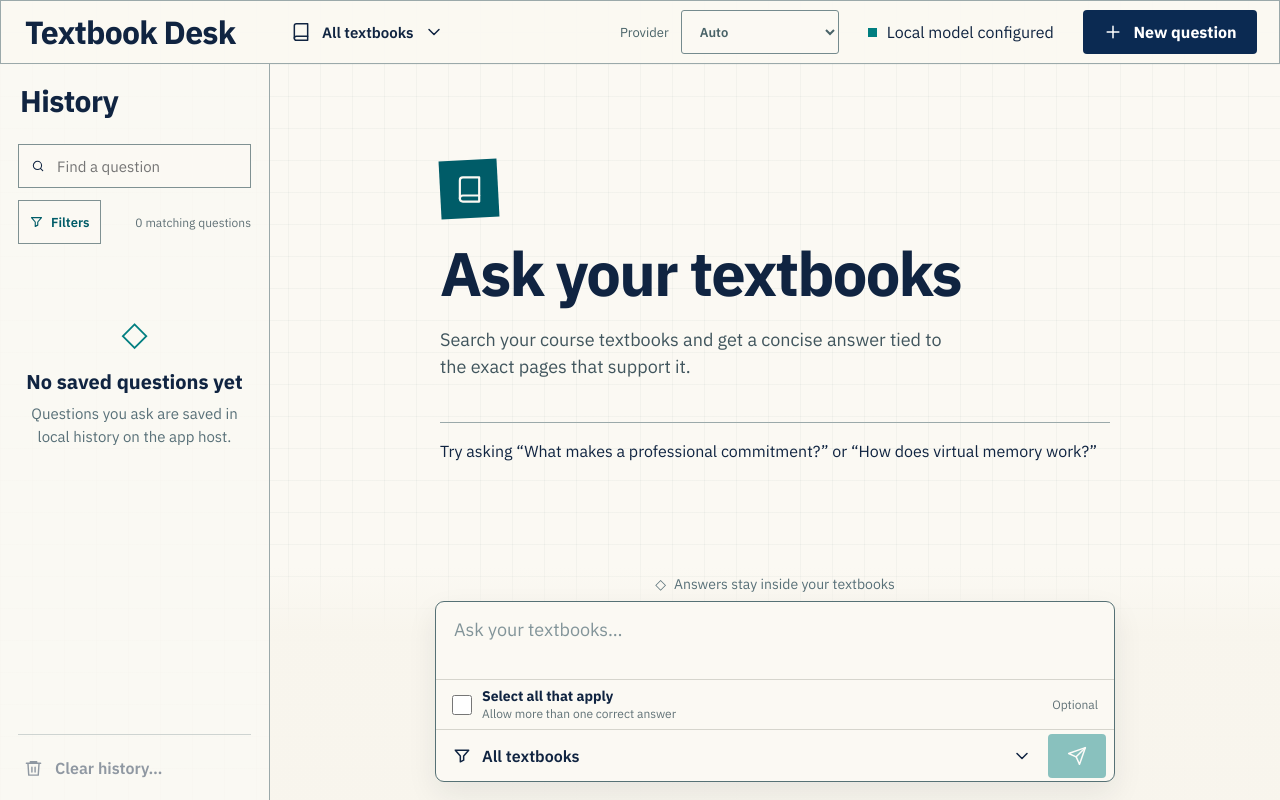
Test: Textbook Desk › keeps NVIDIA answers working with keyword retrieval when the local model is offline
In the text box with placeholder "Ask your textbooks…": (775, 638) [436,602,1114,675], type "How does virtual memory work?"
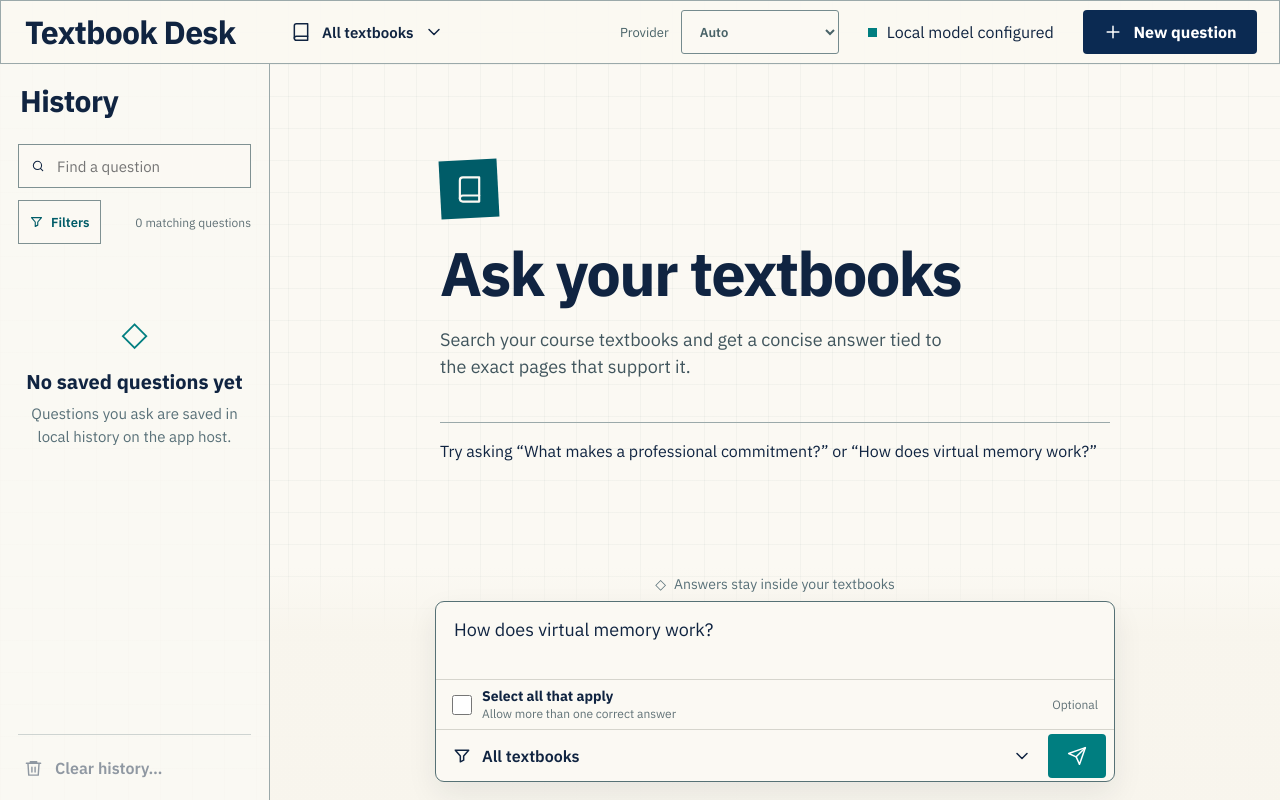
Click the button named "Ask question": (1077, 756) [1048,734,1106,778]
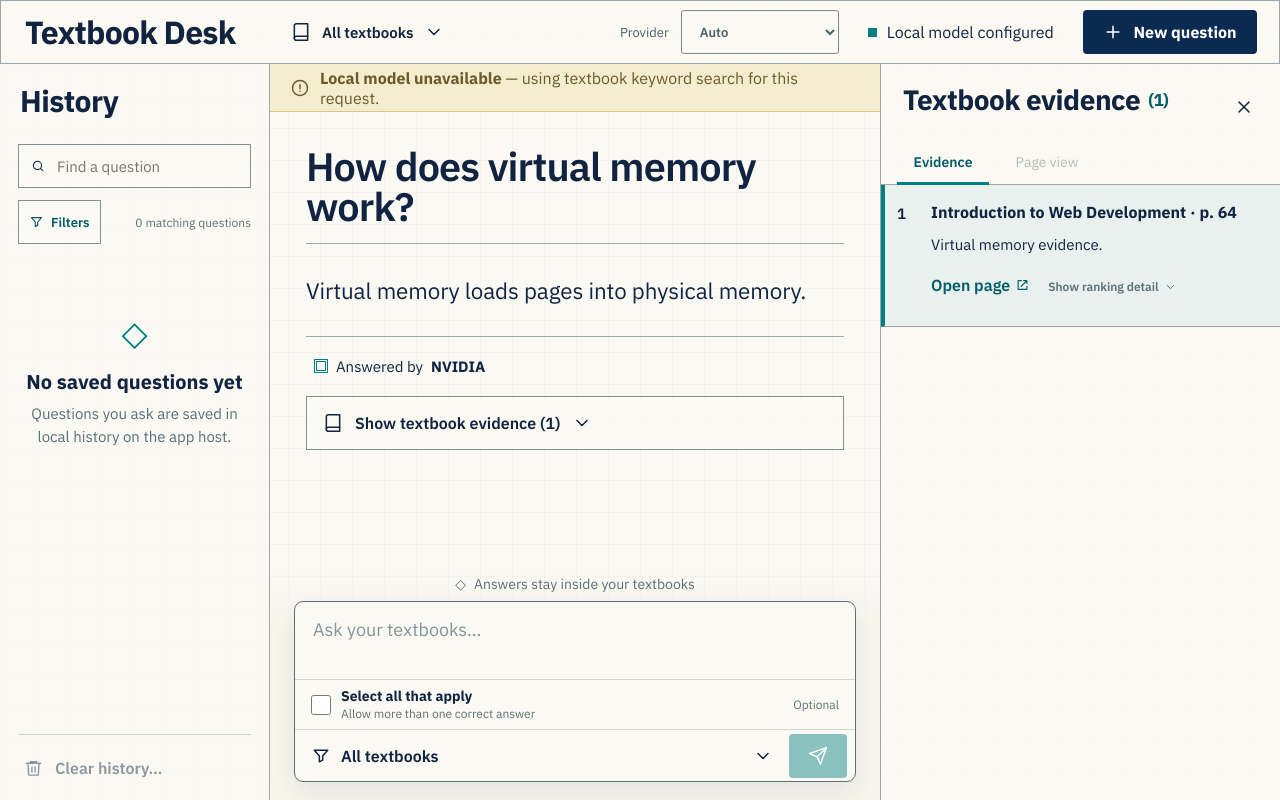
Check: the text "Virtual memory loads pages into physical memory." is shown, box [306,276,806,305]
Check: the text "Local model unavailable" is shown, box [320,68,502,88]
Check: the text "keyword search" is shown, box [320,68,798,108]
